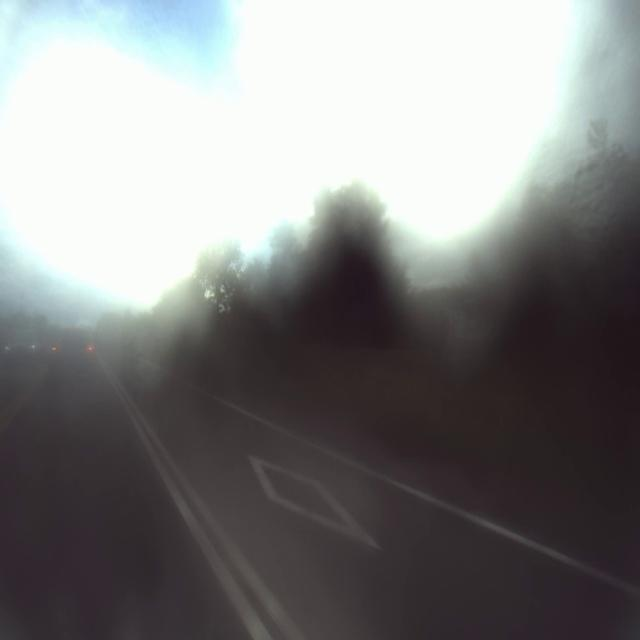car: (46, 311, 100, 383), (2, 317, 39, 370)
